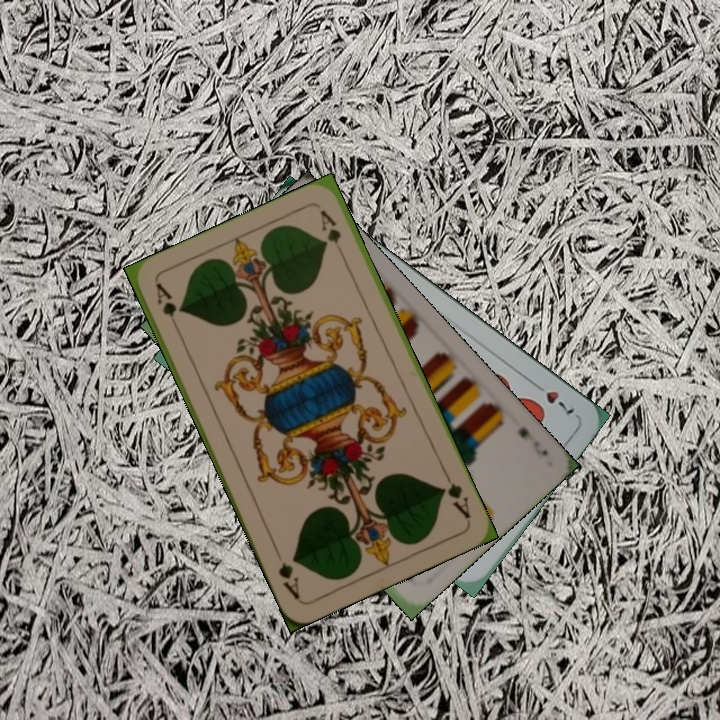E7: (513, 422, 551, 459)
GA: (437, 467, 474, 522), (152, 279, 183, 336)
H7: (528, 377, 579, 419)
